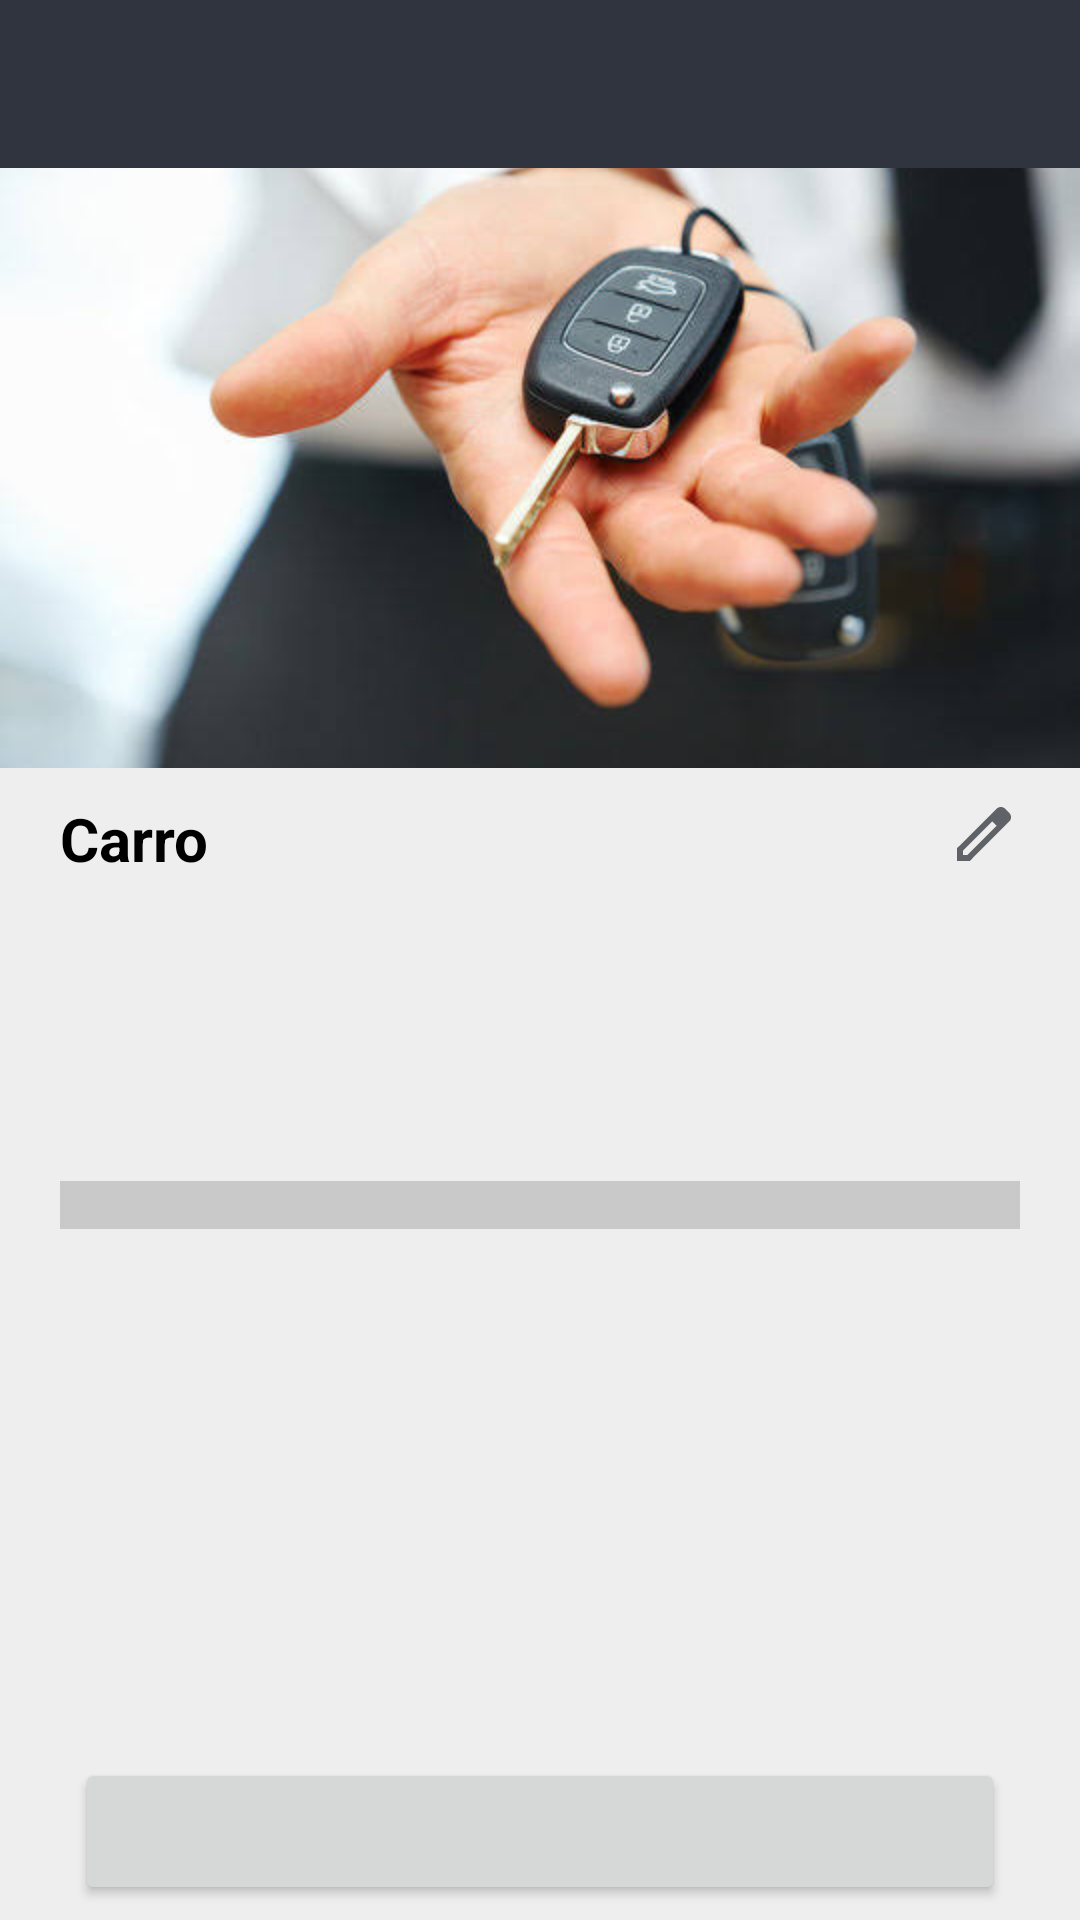

Screen size 1080w x 1920h. Icon name, then its center in pixels as (x=x, y=y):
edit: (x=984, y=834)
